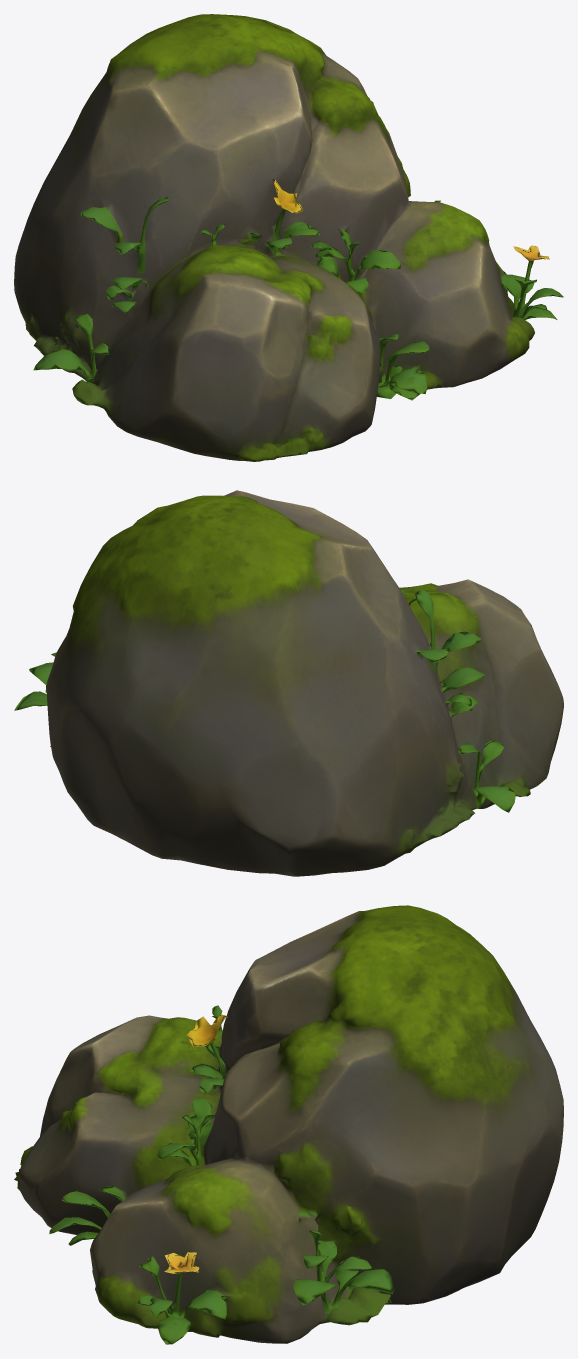
The model's file is mossy-boulders.glb.
3 renders of one model, top to bottom at view 1: azimuth 30°, elevation 25°; view 2: azimuth 150°, elevation 25°; view 3: azimuth 270°, elevation 25°, orthographic. The views are drawn at different scales.
Size of the model in its own units: 0.9951 by 0.5895 by 0.9617.
Materials: 1 (1 with a texture image).
